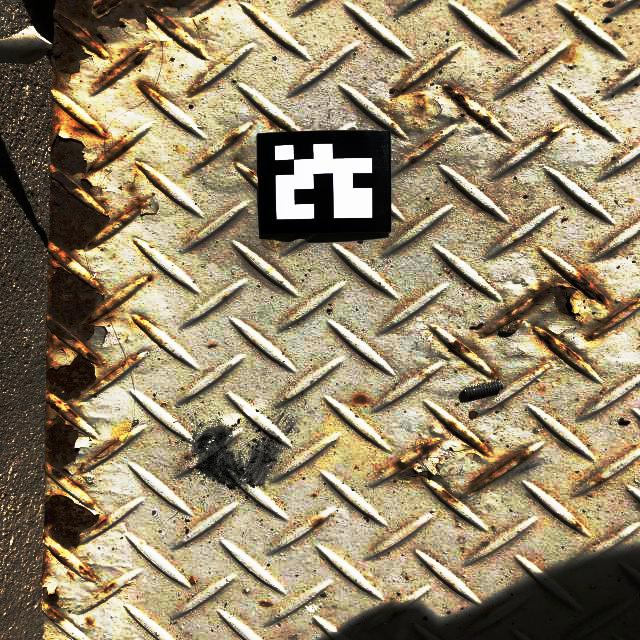Corrosion: (44, 92, 149, 489), (51, 0, 212, 92), (479, 263, 612, 338), (41, 487, 107, 623), (464, 447, 535, 493), (585, 297, 640, 341), (532, 325, 589, 366), (395, 437, 445, 482), (96, 46, 148, 88), (395, 60, 443, 98), (444, 421, 491, 456), (79, 439, 118, 472), (137, 162, 169, 194), (133, 314, 163, 348), (442, 84, 475, 112), (447, 337, 480, 356), (265, 113, 294, 132), (137, 81, 165, 100), (418, 130, 444, 150), (78, 565, 99, 581), (188, 79, 204, 95), (351, 392, 368, 405), (588, 475, 605, 487), (225, 132, 241, 144), (197, 154, 213, 166), (543, 129, 560, 140), (480, 112, 492, 127), (194, 45, 206, 60), (128, 174, 137, 193), (572, 517, 584, 531), (312, 517, 327, 528), (190, 17, 201, 31), (102, 582, 115, 593), (488, 369, 499, 381), (257, 601, 273, 607), (66, 571, 75, 580), (86, 618, 95, 627), (417, 101, 427, 109), (96, 597, 108, 603), (409, 156, 419, 163), (201, 15, 210, 22), (249, 170, 256, 176), (233, 155, 240, 161), (570, 9, 575, 17), (222, 296, 227, 300), (478, 365, 482, 370), (412, 122, 417, 125), (390, 123, 395, 126), (90, 605, 94, 608), (185, 35, 188, 37)
